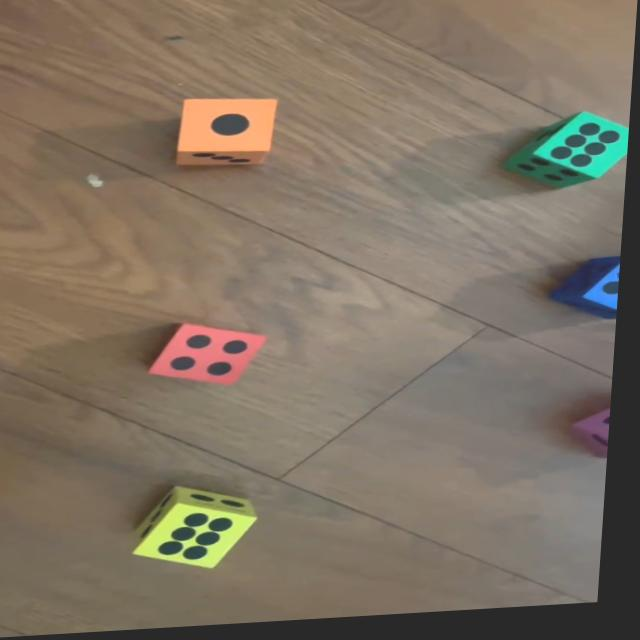blue_block: (557, 265, 625, 329)
red_block: (150, 321, 274, 392)
